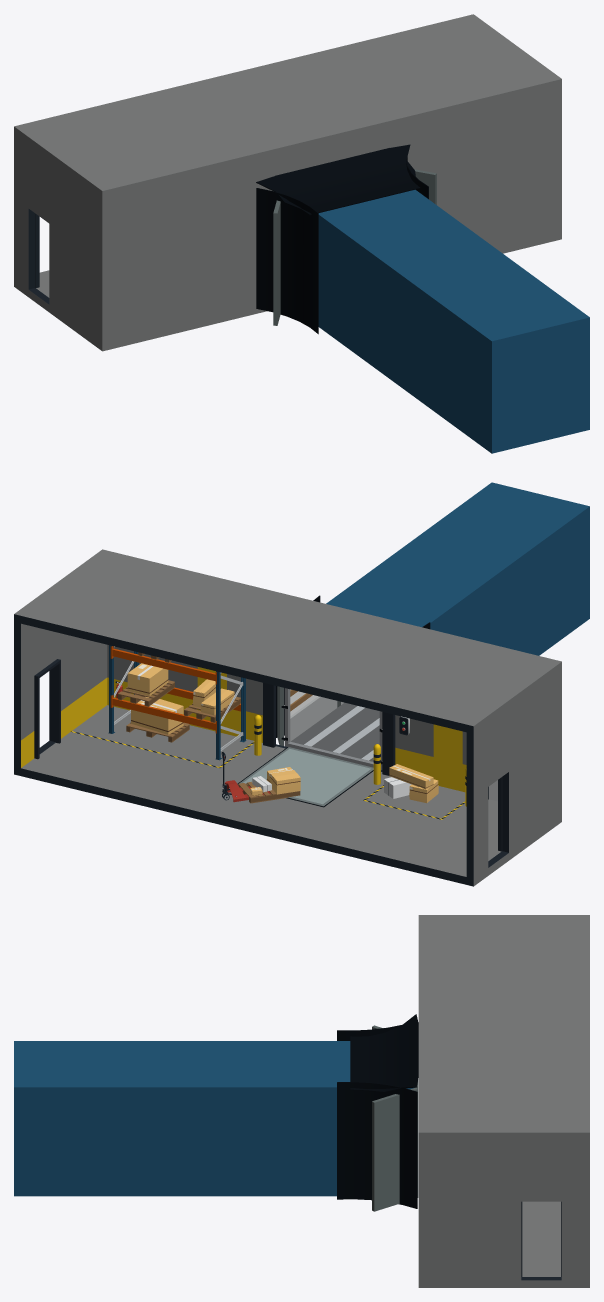
Rendered from Room_delivery_001.fbx.
3 views of the same model, one above another, from view 1: azimuth 30°, elevation 25°; view 2: azimuth 150°, elevation 25°; view 3: azimuth 270°, elevation 25° (orthographic). The views are drawn at different scales.
Parts seen in each view (by area): view 1: Room_delivery_001; view 2: Room_delivery_001; view 3: Room_delivery_001.
Part boxes in pixels (x1,y1,x2,y2): Room_delivery_001: (14, 14, 589, 453); Room_delivery_001: (14, 482, 589, 886); Room_delivery_001: (14, 915, 589, 1287).
Bounding box in the file's own units: 1200 × 400 × 1343.
